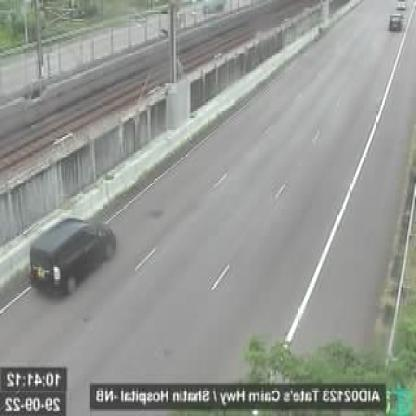Car: (25, 210, 124, 314), (381, 11, 408, 38), (394, 0, 415, 12)
